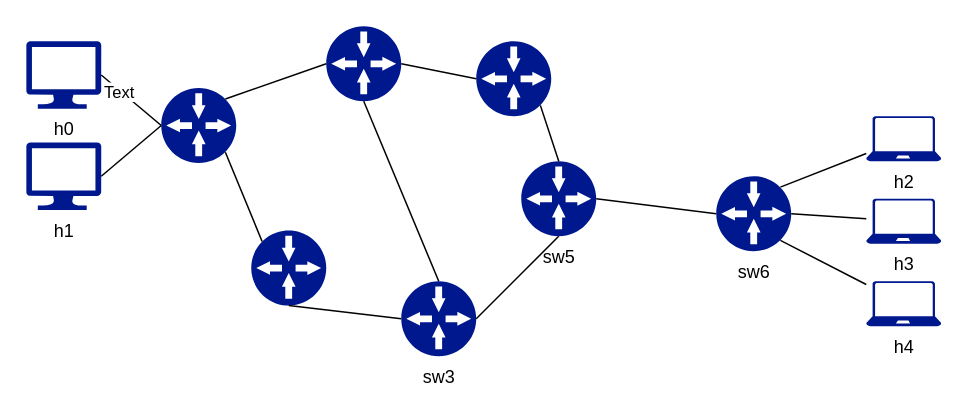
Some shapes in this 966 by 413 pixel diagram are drawn without their labels. Here are the shapes that lost their labels. From the top down, the centre of each, then its label:
At point (363, 63): "sw2".
At point (513, 78): "sw4".
At point (198, 124): "sw0".
At point (288, 267): "sw1".
